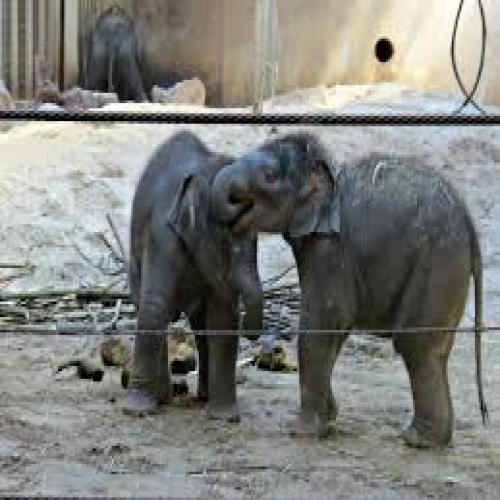asian_elephant-endangered: (214, 133, 491, 446), (127, 129, 269, 418)
